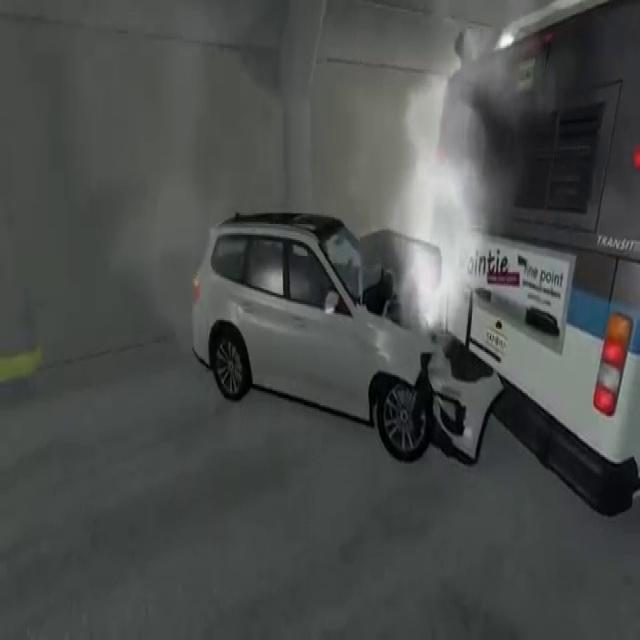accident: (180, 0, 640, 526)
